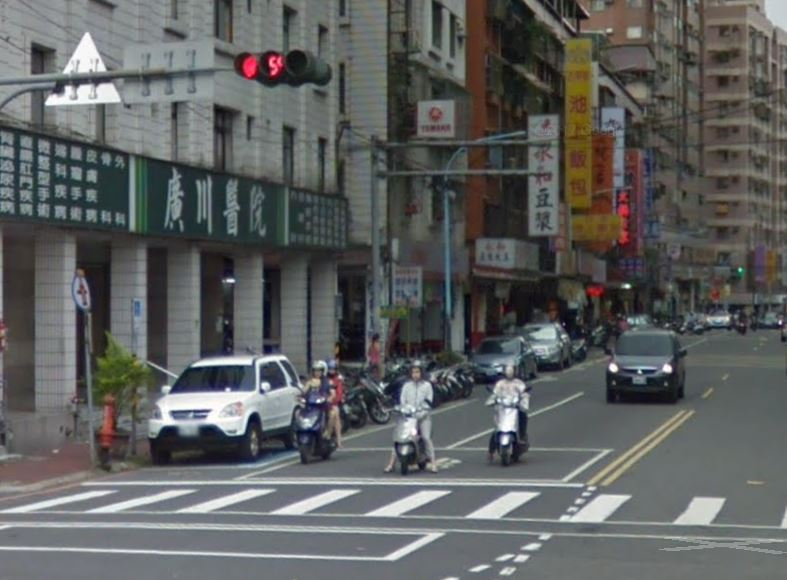Traffic_light_red: (232, 50, 315, 81)
